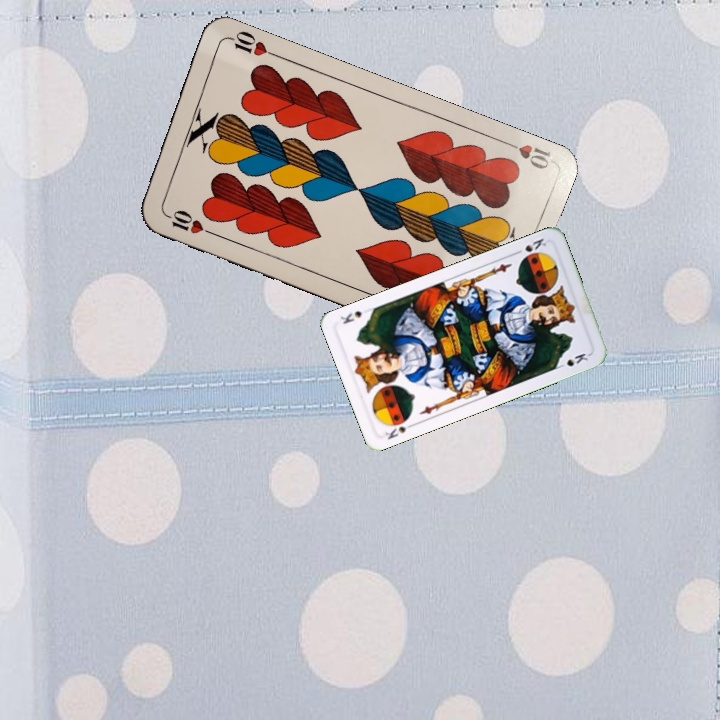H10: (498, 136, 555, 172), (159, 206, 216, 238)
SK: (510, 234, 549, 257), (381, 419, 418, 442)
